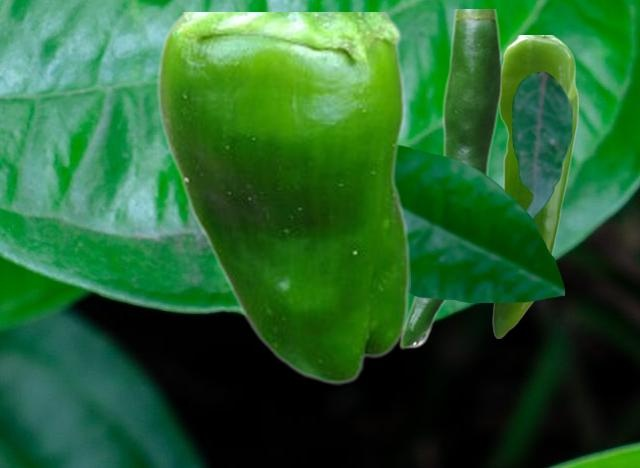green_chili: (155, 12, 409, 384), (398, 9, 500, 348), (492, 35, 577, 337)
